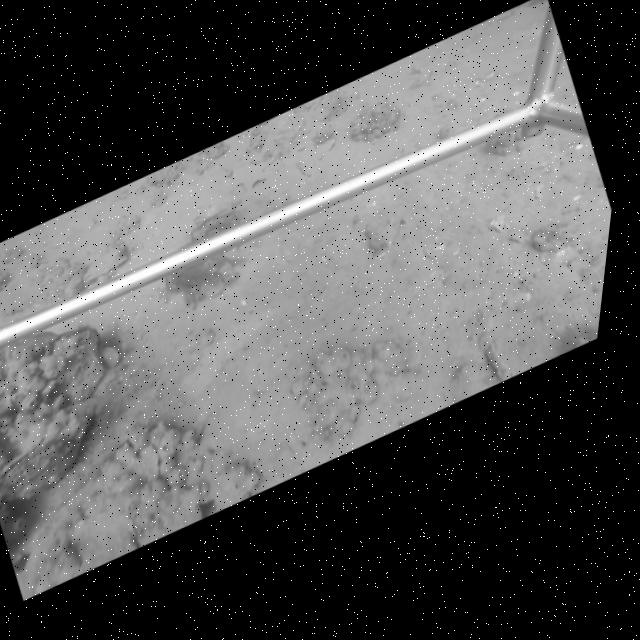Oyster-Closed: (0, 433, 88, 500), (80, 244, 130, 288)
Oyster-Indeterminate: (364, 205, 401, 257), (114, 439, 159, 478)
